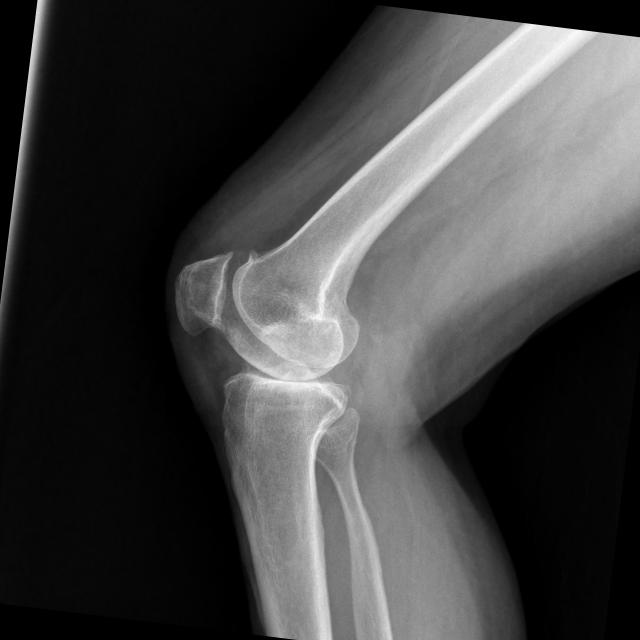Knee: (156, 236, 381, 457)
